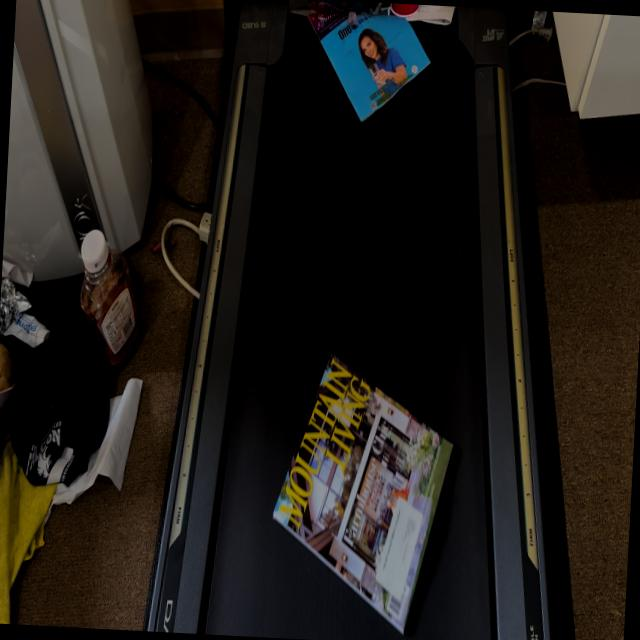Recycle: (266, 351, 459, 640), (302, 0, 434, 130)
